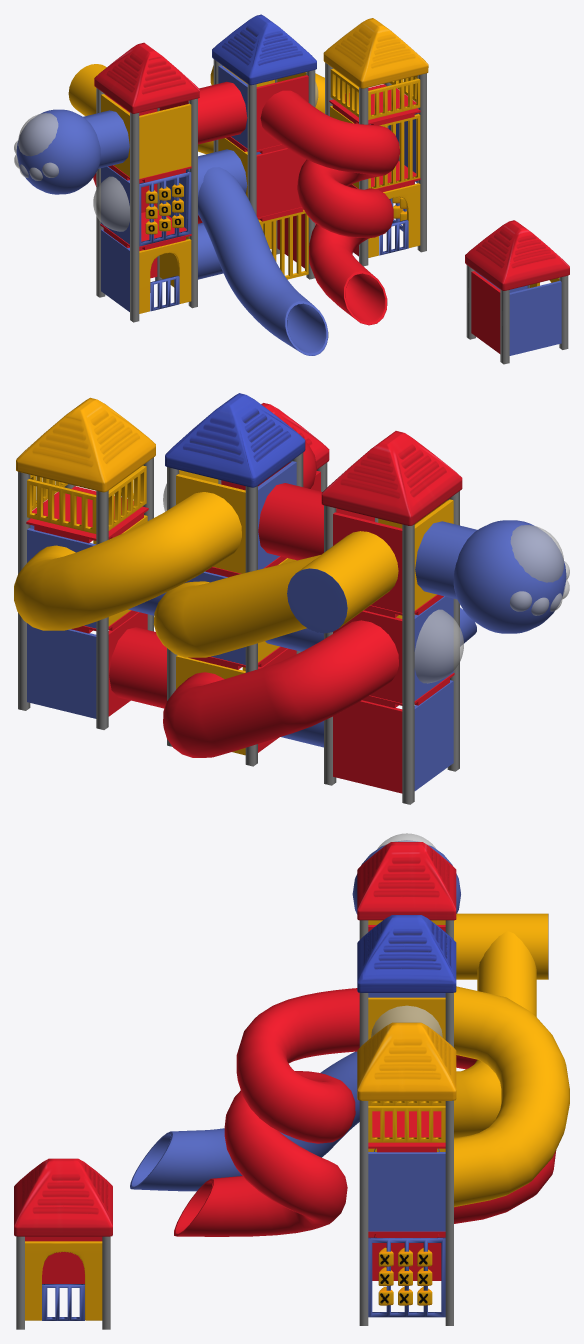
File: asset2.glb
3 views of the same model, one above another, from view 1: azimuth 30°, elevation 25°; view 2: azimuth 150°, elevation 25°; view 3: azimuth 270°, elevation 25° (orthographic). The views are drawn at different scales.
Visible parts, largest first — view 1: SpiralPoly, SlidePoly, SpacePod, Roof1, Roof3, Roof2, Roof4, Wall1, Wall32, Wall15, Pipe1, SupportL2 (+35 smaller); view 2: Tube2, Tube3, SpacePod, Tube1, Roof1, Roof2, Roof3, Pipe7, Wall28, Wall9, Pipe1, Pipe5 (+30 smaller); view 3: SpiralPoly, Tube3, Roof3, Roof4, Roof2, Roof1, SlidePoly, Tube1, Wall24, Pipe7, Wall34, Wall12 (+12 smaller).
Boxes of the visible parts, left/top/right/bottom form: SpiralPoly: left=260, top=90, right=400, bottom=325; SlidePoly: left=198, top=167, right=328, bottom=355; SpacePod: left=16, top=109, right=100, bottom=194; Roof1: left=94, top=42, right=199, bottom=113; Roof3: left=323, top=18, right=428, bottom=88; Roof2: left=212, top=14, right=316, bottom=85; Roof4: left=465, top=220, right=569, bottom=290; Wall1: left=139, top=103, right=191, bottom=178; Wall32: left=509, top=281, right=561, bottom=355; Wall15: left=256, top=148, right=306, bottom=217; Pipe1: left=198, top=81, right=247, bottom=144; SupportL2: left=130, top=112, right=139, bottom=322; Tube2: left=163, top=620, right=398, bottom=757; Tube3: left=14, top=492, right=241, bottom=630; SpacePod: left=453, top=520, right=566, bottom=633; Tube1: left=153, top=555, right=321, bottom=657; Roof1: left=321, top=431, right=462, bottom=525; Roof2: left=165, top=393, right=305, bottom=487; Roof3: left=16, top=397, right=155, bottom=492; Pipe7: left=287, top=531, right=398, bottom=633; Wall28: left=27, top=623, right=96, bottom=718; Wall9: left=333, top=700, right=402, bottom=793; Pipe1: left=258, top=483, right=323, bottom=560; Pipe5: left=109, top=627, right=166, bottom=708; SpiralPoly: left=174, top=988, right=359, bottom=1236; Tube3: left=454, top=986, right=569, bottom=1207; Roof3: left=357, top=1022, right=456, bottom=1100; Roof4: left=14, top=1158, right=112, bottom=1236; Roof2: left=357, top=915, right=456, bottom=992; Roof1: left=357, top=842, right=456, bottom=920; SlidePoly: left=130, top=1051, right=359, bottom=1191; Tube1: left=454, top=931, right=536, bottom=1138; Wall24: left=368, top=1152, right=445, bottom=1231; Pipe7: left=454, top=913, right=548, bottom=979; Wall34: left=25, top=1241, right=102, bottom=1320; Wall12: left=368, top=997, right=445, bottom=1039.
Bounding box in the file's own units: 5.61 × 3.43 × 5.4.
10 materials, 4 textured.
